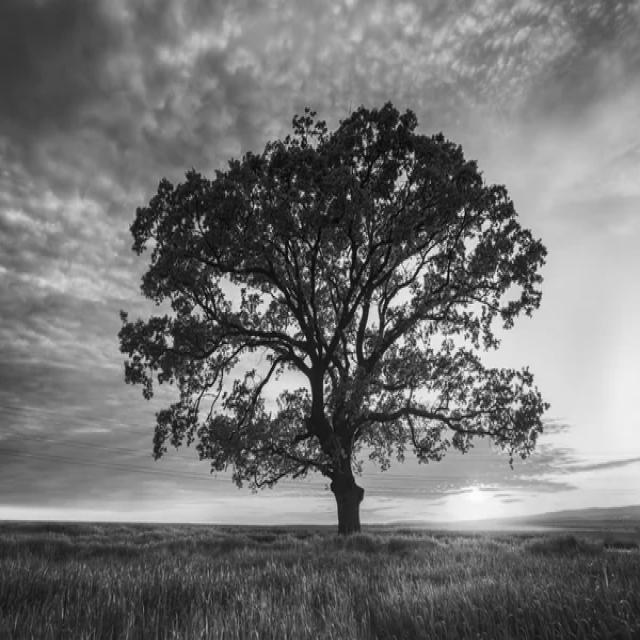Tree: (118, 102, 550, 537)
